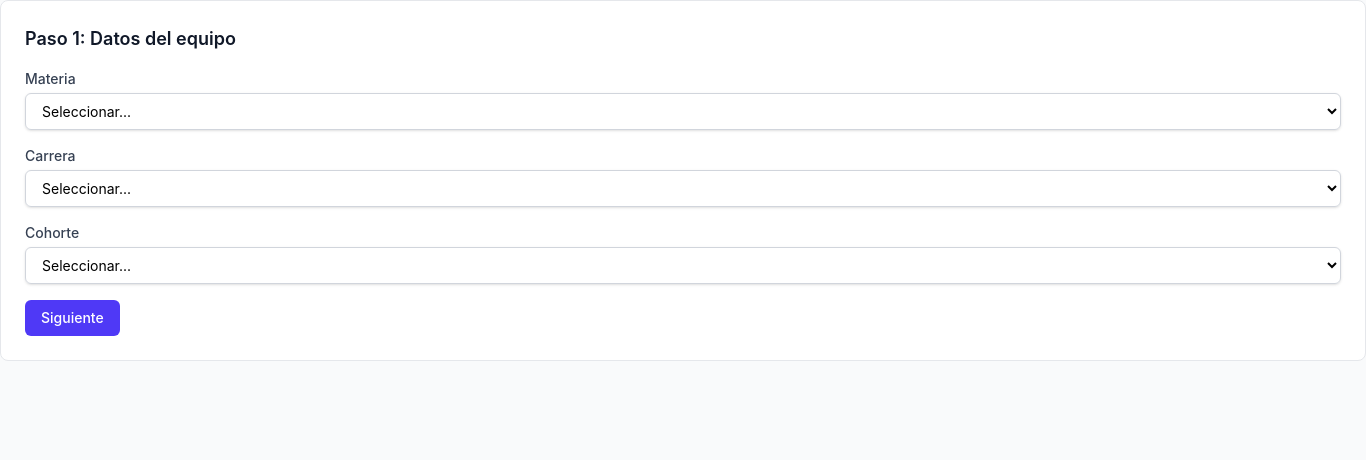
Scenario: AsignacionMasivaForm › proceeds to step 2
The image size is (1366, 460).
Click the button "Siguiente". click: (72, 318)
box: [25,300,120,336]
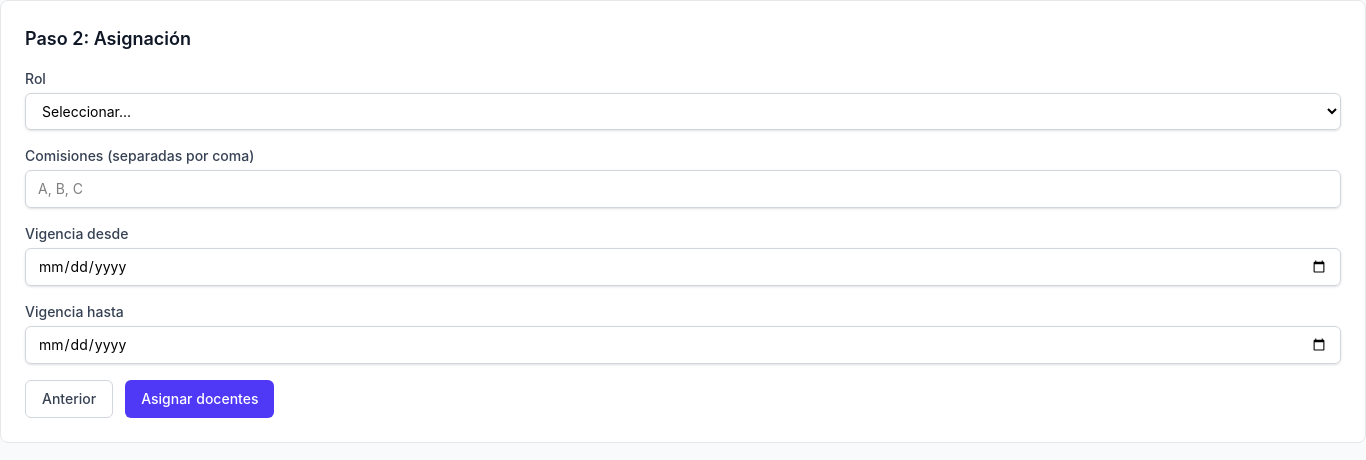
Check: the heading "Paso 2: Asignación" is shown, box [25,28,191,49]
Check: the button "Asignar docentes" is shown, box [125,380,274,418]
